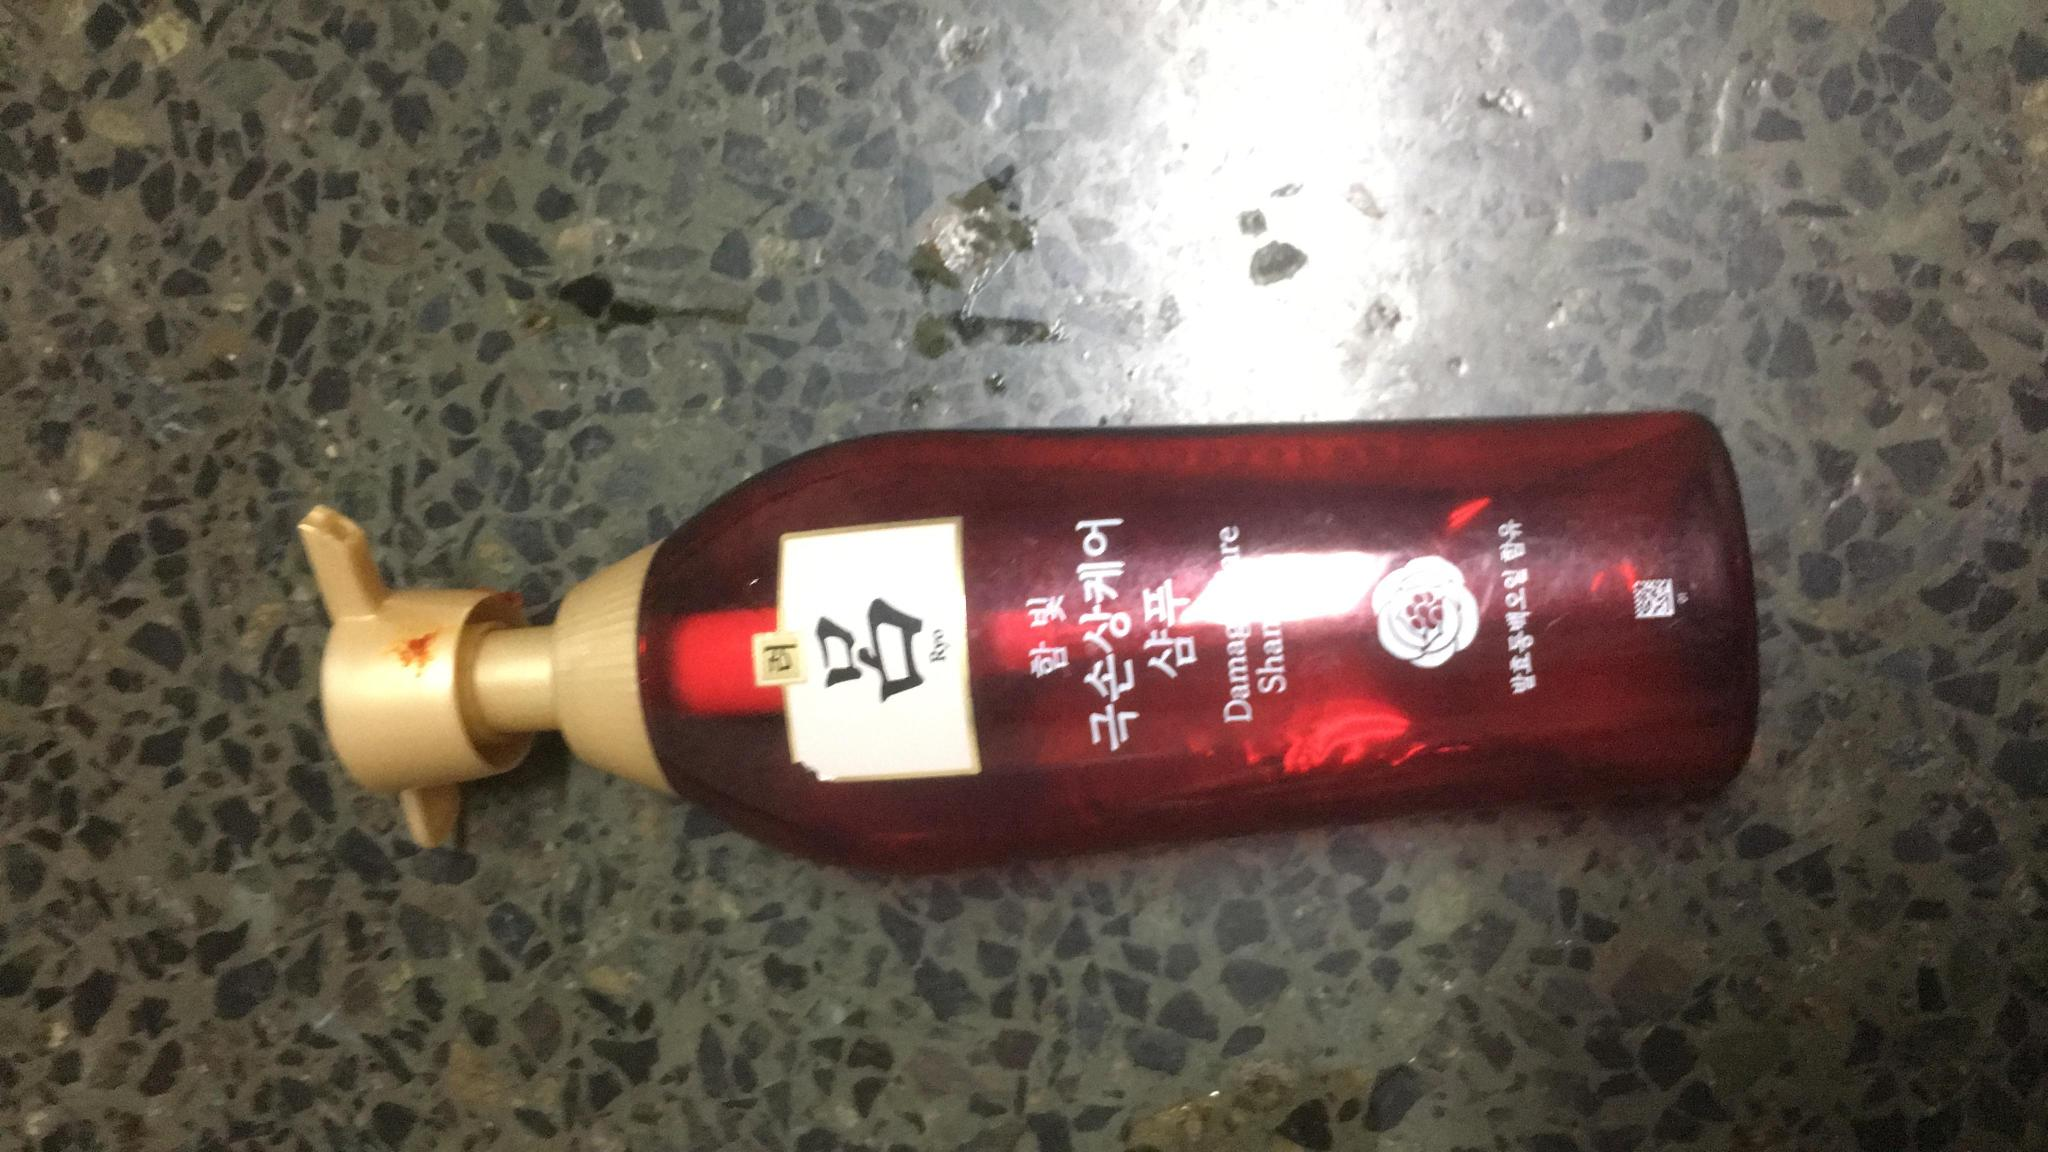bottle: (291, 404, 1764, 858)
